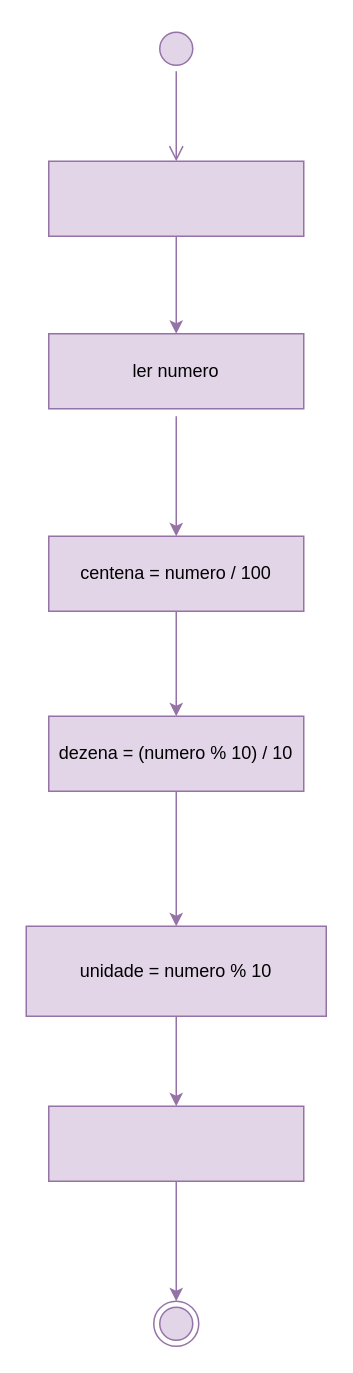
Some shapes in this 353 by 1373 pixel diagram are drawn without their labels. The shapes that lost their labels are listed below. From the top down, each one's centre as x and y in pixels, then its label:
pixel 175 198: Digite um valor inteiro de 3 digitos
pixel 175 1143: Exibir centena, dezena, unidade
